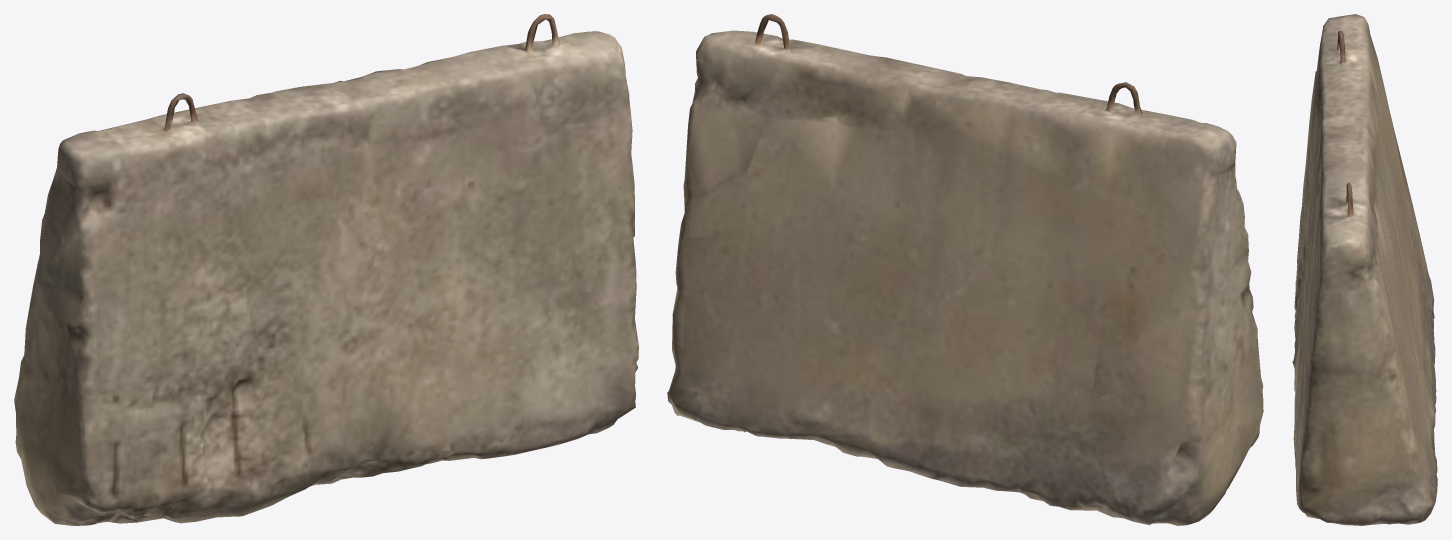
The model's file is separateur_beton_bas_lod0.glb.
The picture shows the model from 3 angles, left to right: view 1: azimuth 30°, elevation 25°; view 2: azimuth 150°, elevation 25°; view 3: azimuth 270°, elevation 25°; orthographic projection. The views are drawn at different scales.
Visible parts, largest first — view 1: concrete_road_barrier_02; view 2: concrete_road_barrier_02; view 3: concrete_road_barrier_02.
Part boxes in pixels (x1,y1,x2,y2): concrete_road_barrier_02: (14, 14, 638, 525); concrete_road_barrier_02: (667, 14, 1263, 525); concrete_road_barrier_02: (1292, 14, 1437, 525).
Size of the model in its own units: 1.56 by 1.11 by 0.4422.
1 material, 1 textured.
